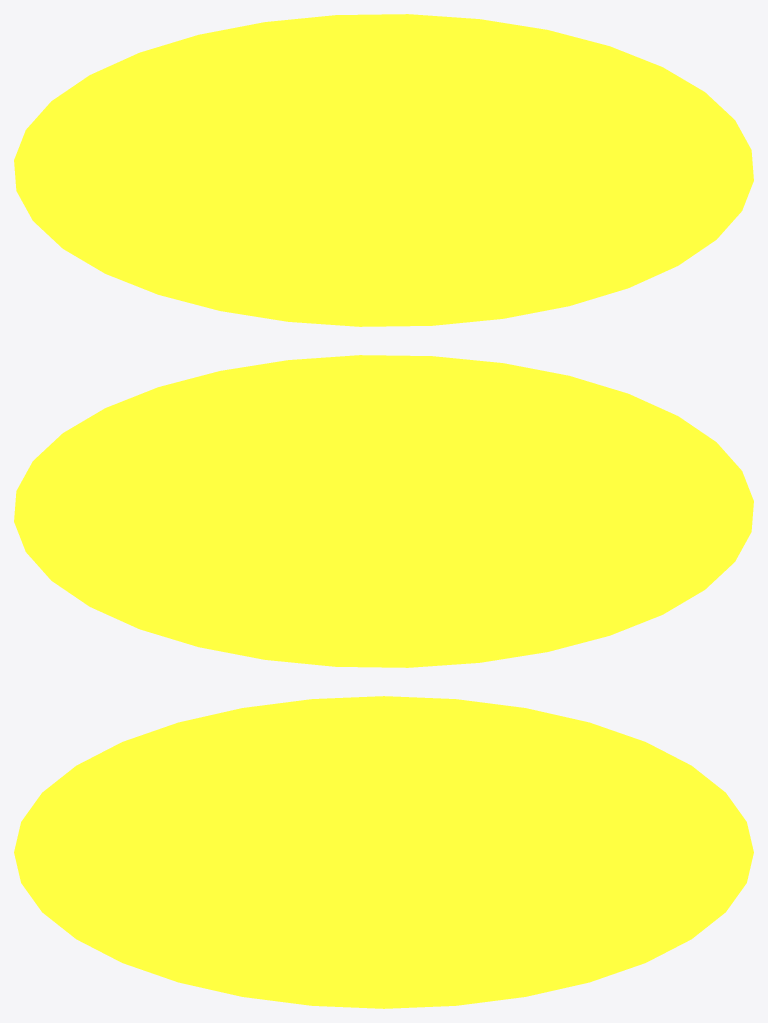
The model's file is lamp-pool.glb.
3 views of the same model, one above another, from view 1: azimuth 30°, elevation 25°; view 2: azimuth 150°, elevation 25°; view 3: azimuth 270°, elevation 25° (orthographic).
Visible parts, largest first — view 1: lamp pool; view 2: lamp pool; view 3: lamp pool.
Part boxes in pixels (x1=…): lamp pool: x1=14, y1=14, x2=753, y2=326; lamp pool: x1=14, y1=355, x2=753, y2=667; lamp pool: x1=14, y1=696, x2=753, y2=1008.
Size of the model in its own units: 13 by 0.03 by 13.
